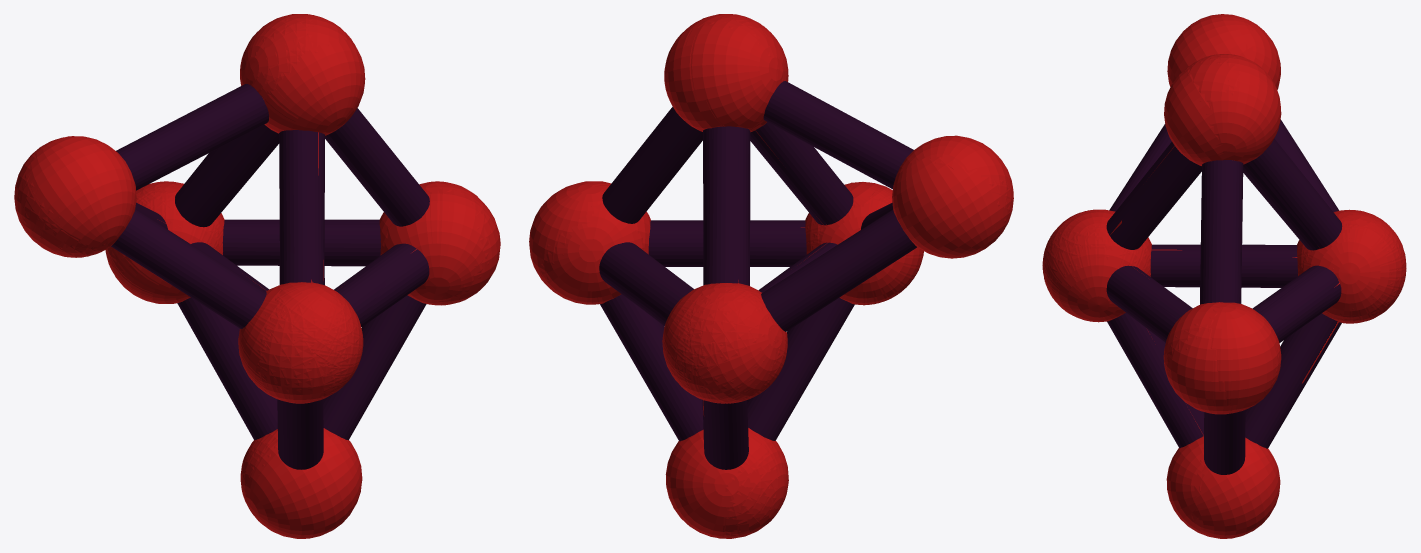
File: 3Dvertex6.fbx
3 views of the same model, side by side, from view 1: azimuth 30°, elevation 25°; view 2: azimuth 150°, elevation 25°; view 3: azimuth 270°, elevation 25° (orthographic). The views are drawn at different scales.
Parts seen in each view (by area): view 1: Sphere.002; view 2: Sphere.002; view 3: Sphere.002.
Boxes of the visible parts, <box> form: Sphere.002: <box>14,14,500,538</box>; Sphere.002: <box>529,14,1013,538</box>; Sphere.002: <box>1042,14,1406,538</box>.
Bounding box in the file's own units: 605 × 634 × 441.
